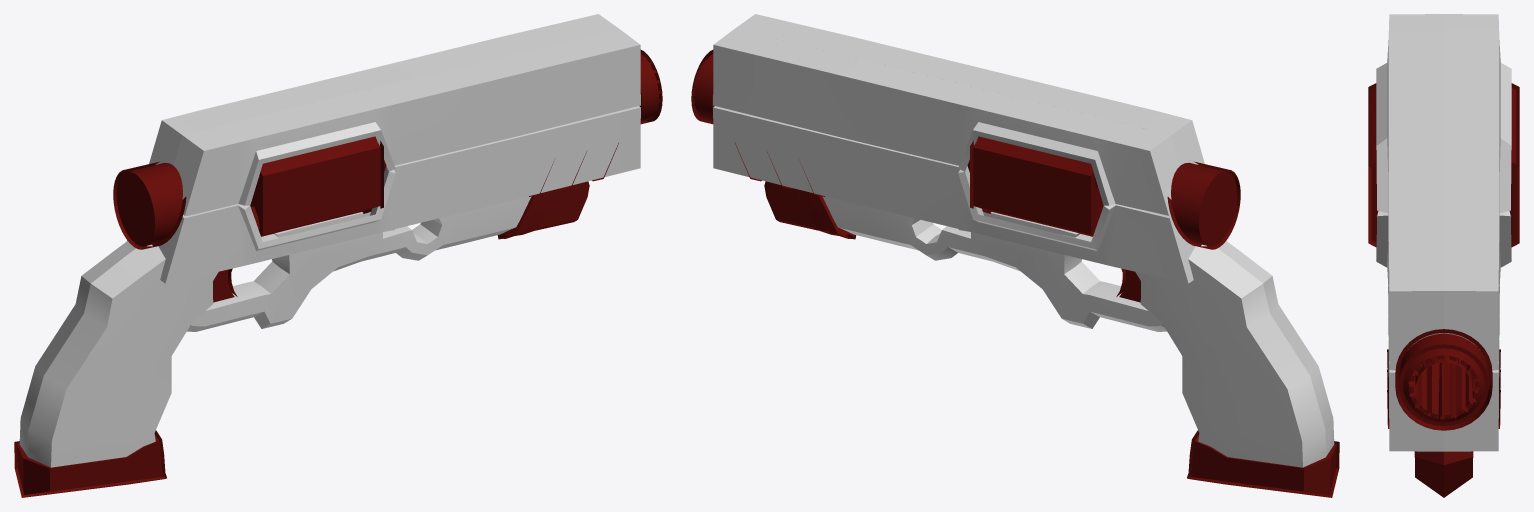
File: GBE.fbx
The picture shows the model from 3 angles, left to right: view 1: azimuth 30°, elevation 25°; view 2: azimuth 150°, elevation 25°; view 3: azimuth 270°, elevation 25°; orthographic projection. The views are drawn at different scales.
Parts seen in each view (by area): view 1: GBEOUTLINE, GBE; view 2: GBEOUTLINE, GBE; view 3: GBEOUTLINE, GBE.
Boxes of the visible parts, x1,y1,x2,y2 form: GBEOUTLINE: (14, 14, 662, 497); GBE: (17, 54, 658, 494); GBEOUTLINE: (691, 14, 1339, 497); GBE: (695, 54, 1336, 494); GBEOUTLINE: (1368, 14, 1519, 497); GBE: (1371, 88, 1516, 425).
Size of the model in its own units: 1113 by 576 by 180.
